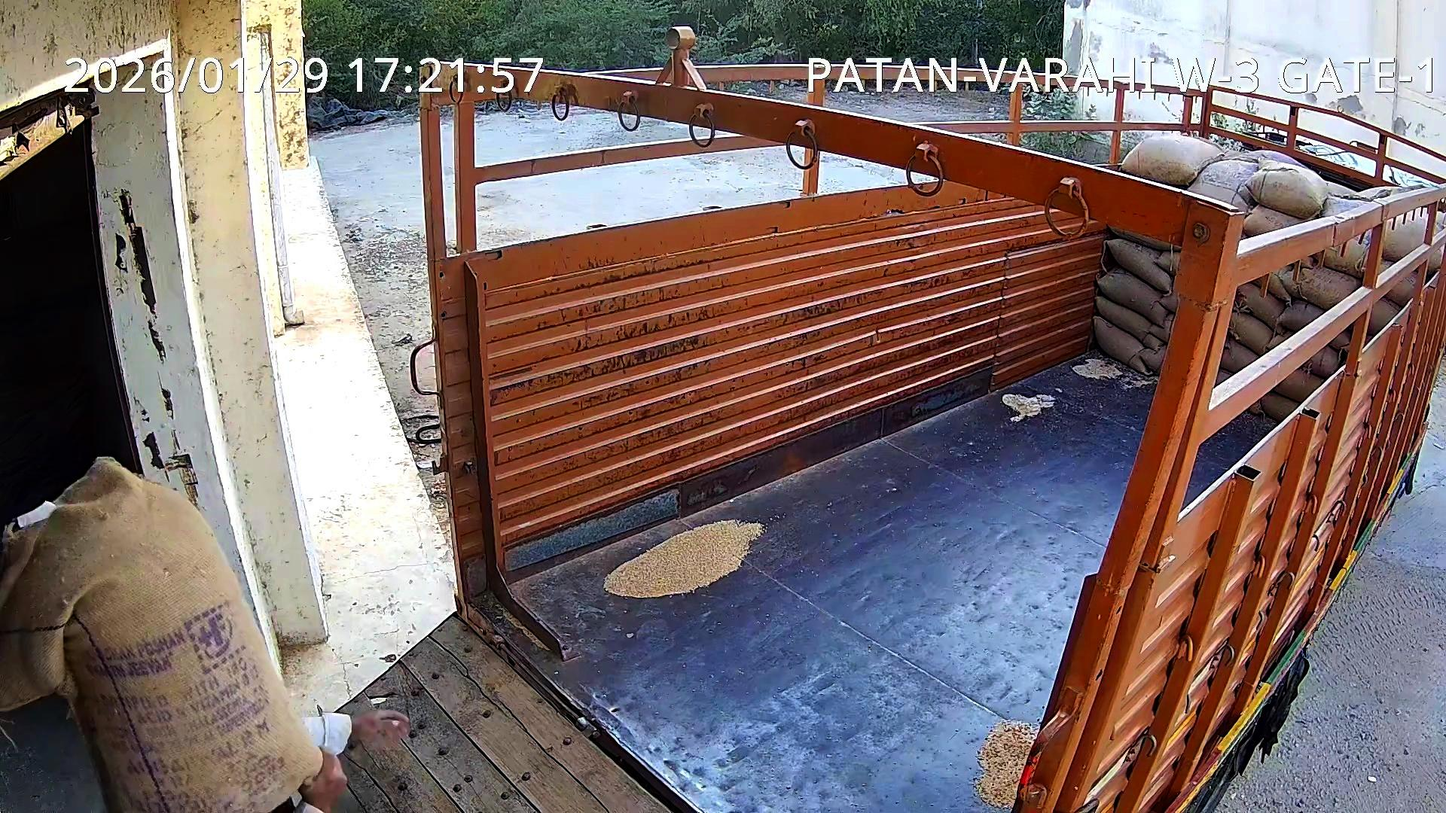Sack: (0, 458, 323, 812)
